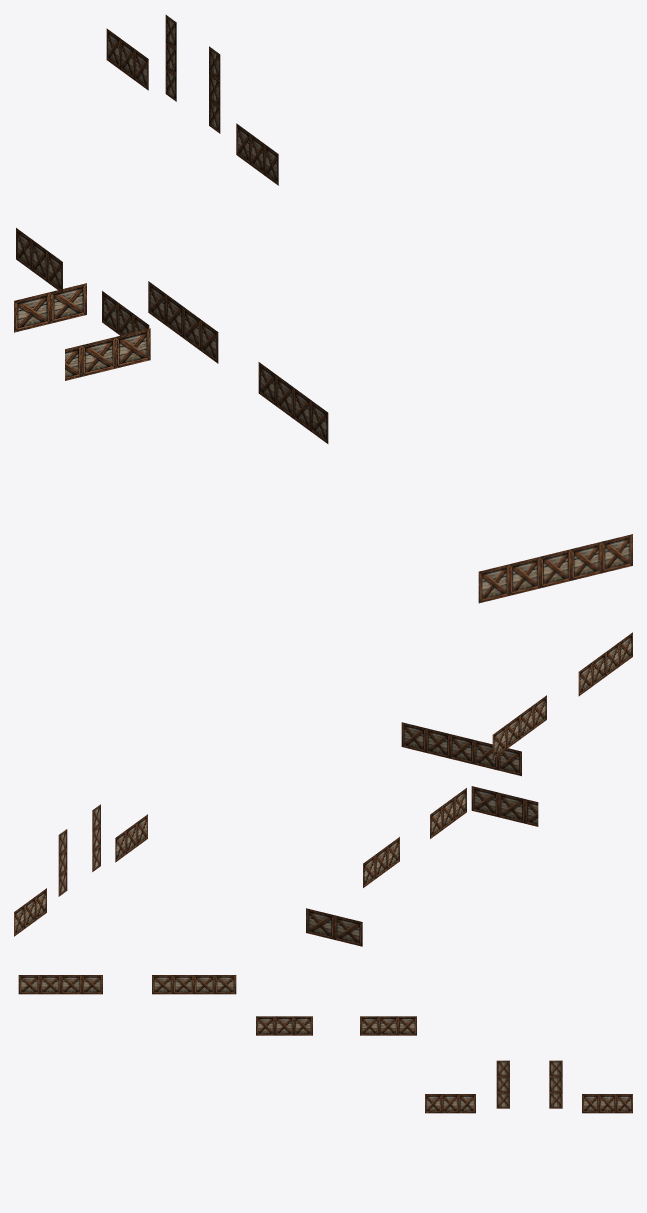
File: LAKETOWN_EXTERIOR_PS_LT_PANELS8770059.fbx
3 renders of one model, top to bottom at view 1: azimuth 30°, elevation 25°; view 2: azimuth 150°, elevation 25°; view 3: azimuth 270°, elevation 25°, orthographic. The views are drawn at different scales.
Parts seen in each view (by area): view 1: LAKETOWN_EXTERIOR_PS_LT_PANELS8770059; view 2: LAKETOWN_EXTERIOR_PS_LT_PANELS8770059; view 3: LAKETOWN_EXTERIOR_PS_LT_PANELS8770059.
Part boxes in pixels (x1,y1,x2,y2): LAKETOWN_EXTERIOR_PS_LT_PANELS8770059: [14, 15, 632, 603]; LAKETOWN_EXTERIOR_PS_LT_PANELS8770059: [14, 632, 632, 946]; LAKETOWN_EXTERIOR_PS_LT_PANELS8770059: [18, 975, 632, 1113].
Size of the model in its own units: 125263 by 71995 by 298890.
Materials: 1 (1 with a texture image).
